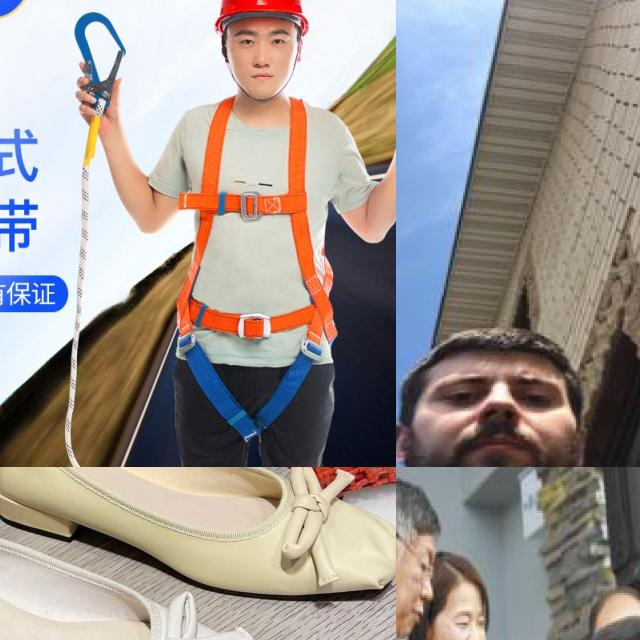Harness: (174, 93, 333, 407)
No_Ear-Protection: (396, 414, 421, 466)
No_Glasses: (415, 372, 573, 420), (236, 28, 291, 57)
Sandals: (0, 467, 396, 616), (0, 467, 314, 640)
face_nomask: (414, 368, 573, 467), (396, 542, 436, 638), (434, 602, 487, 640)
head_nohelmet: (396, 323, 567, 369), (396, 474, 444, 540), (573, 584, 640, 623), (437, 556, 492, 600)
person: (396, 299, 640, 467), (419, 556, 533, 640), (396, 467, 448, 640)
